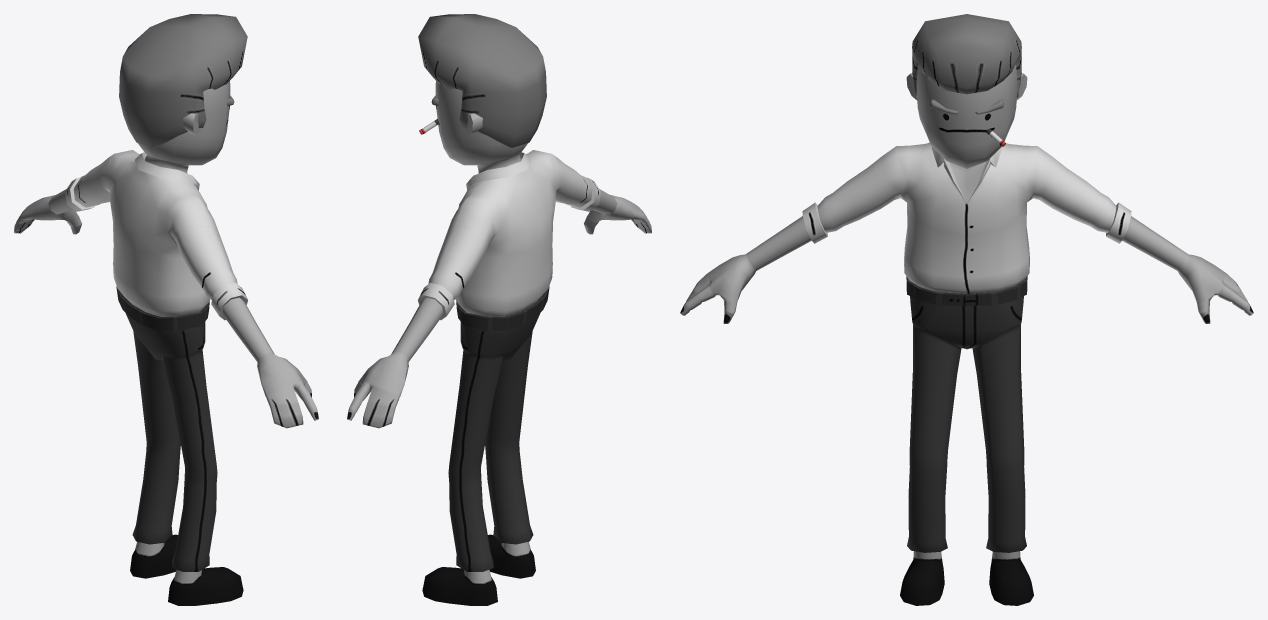
Rendered from Man.glb.
3 views of the same model, side by side, from view 1: azimuth 30°, elevation 25°; view 2: azimuth 150°, elevation 25°; view 3: azimuth 270°, elevation 25° (orthographic). The views are drawn at different scales.
Visible parts, largest first — view 1: mesh_char_18; view 2: mesh_char_18; view 3: mesh_char_18.
Boxes of the visible parts, left/top/right/bottom form: mesh_char_18: left=14, top=14, right=318, bottom=605; mesh_char_18: left=347, top=14, right=651, bottom=605; mesh_char_18: left=680, top=14, right=1253, bottom=605.
Size of the model in its own units: 1.01 by 4.78 by 4.32.
1 material, 1 textured.
